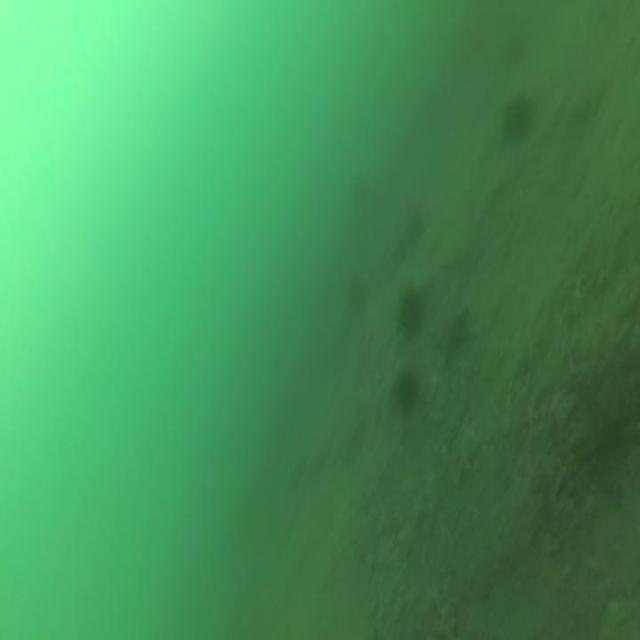echinus: (495, 87, 535, 147), (387, 368, 424, 422), (396, 284, 426, 343), (342, 268, 372, 326), (348, 168, 372, 212)
starfish: (435, 302, 478, 366)
